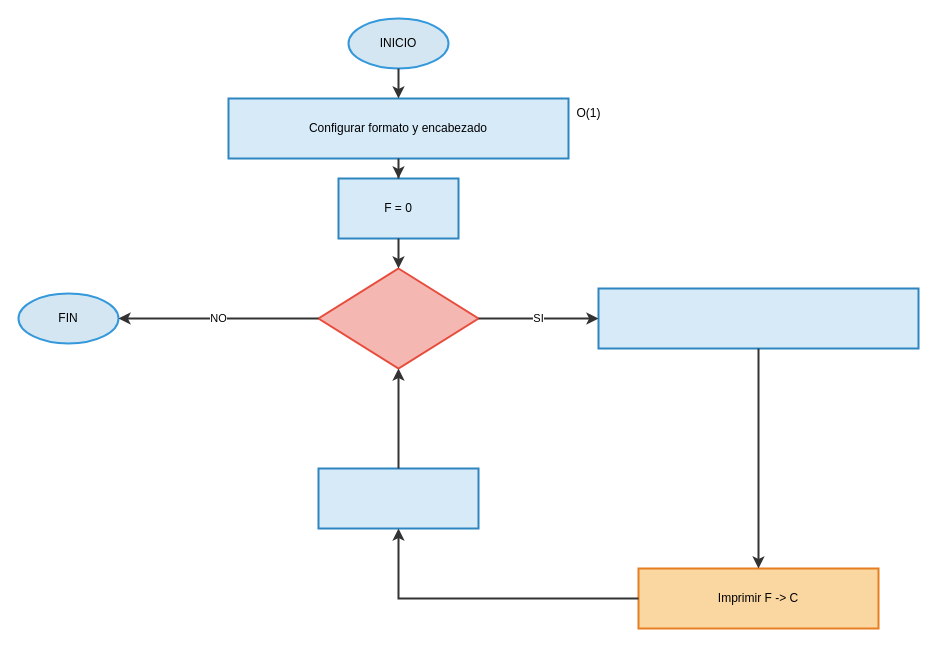
This 936x646 diagram has some shape labels left out. Here are the shapes that lost their labels. From the top down, the centre of each, then its label:
[398,318]: ¿F <= 200?
[758,318]: C = 5/9 * (F - 32)
[398,498]: F = F + 10
